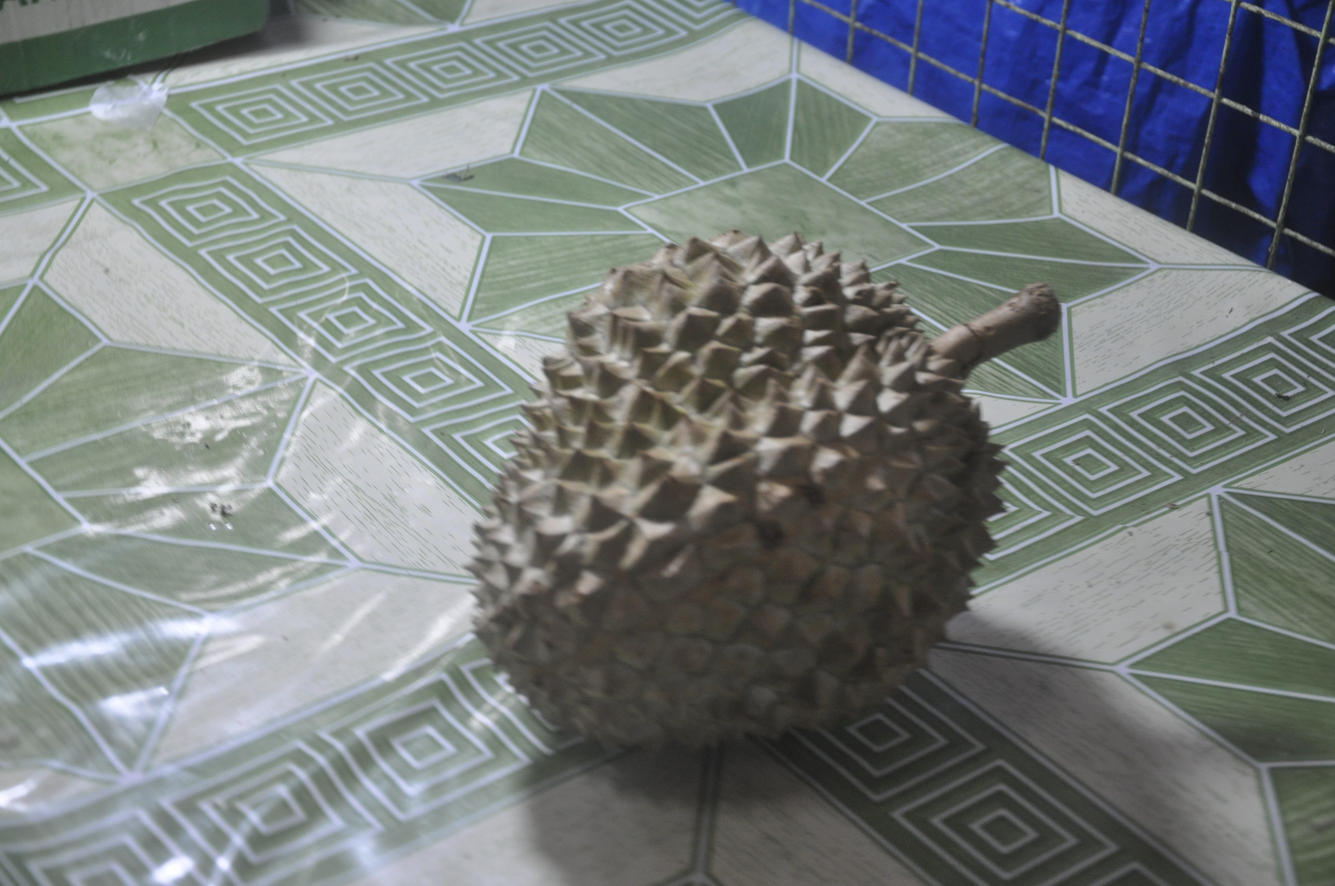mature: (471, 230, 1061, 747)
